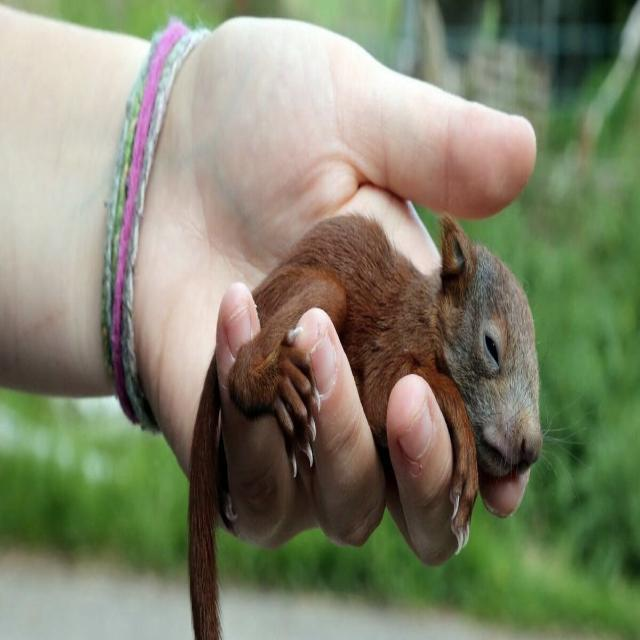squirrel: (229, 215, 541, 544)
